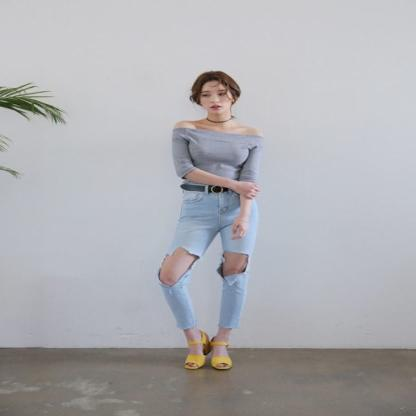jacket: (175, 126, 262, 190)
